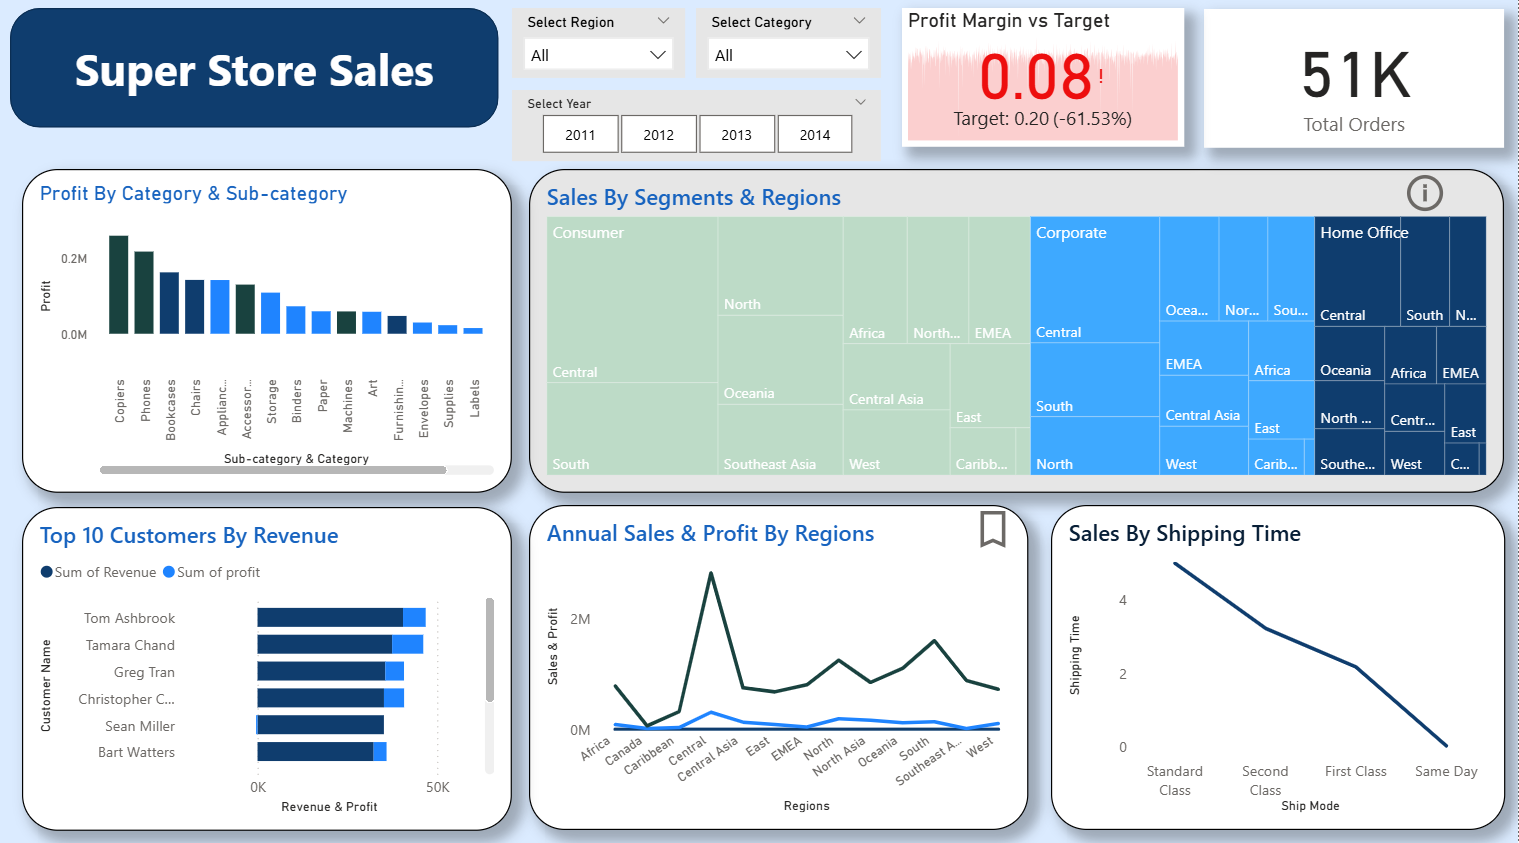

Layout of this report page (visuals, bound fields, positions):
{"tool":"powerbi","page":{"name":"Dashboard","canvas":[1280,720],"ordinal":0},"visuals":[{"type":"treemap","title":"Sales By Segments & Regions","fields":{"Group":["super store dataset.segment"],"Values":["Sum(super store dataset.Revenue)"],"Details":["super store dataset.region"]},"box":[446,148.7,822.1,273.1],"z":0},{"type":"lineChart","title":"Annual Sales & Profit By Regions","fields":{"Y":["Max(super store dataset.year)","Sum(super store dataset.profit)","Sum(super store dataset.Revenue)"],"Category":["super store dataset.region"]},"box":[445.7,431.4,421.4,274.3],"z":1000},{"type":"actionButton","box":[1180.8,148.4,99.2,40.5],"z":2000},{"type":"columnChart","title":"Profit By Category & Sub-category","fields":{"Category":["super store dataset.sub_category"],"Series":["super store dataset.category"],"Y":["Sum(super store dataset.profit)"]},"box":[18.6,148.6,412.9,272.9],"z":3000},{"type":"barChart","title":"Top 10 Customers By Revenue","fields":{"Category":["super store dataset.customer_name"],"Y":["Sum(super store dataset.Revenue)","Sum(super store dataset.profit)"]},"box":[18.3,433.3,413.3,273.3],"z":4000},{"type":"lineChart","title":"Sales By Shipping Time","fields":{"Y":["Avg(super store dataset.Shipping Time)"],"Category":["super store dataset.ship_mode"]},"box":[885.7,431.4,382.9,274.3],"z":6000},{"type":"card","fields":{"Values":["super store dataset.Measure"]},"box":[1015,13.3,253.3,116.7],"z":7000},{"type":"shape","box":[8.6,13,411.8,100.8],"z":8000},{"type":"kpi","title":"Profit Margin vs Target","fields":{"Indicator":["super store dataset.Profit Margin"],"TrendLine":["super store dataset.order_date"],"Goal":["super store dataset.Target Profit Margin"]},"box":[760.3,13,237.6,116.6],"z":9000},{"type":"actionButton","box":[816.9,432,99.5,40.6],"z":10000},{"type":"slicer","fields":{"Values":["super store dataset.category"]},"box":[587.1,12.9,155.7,58.6],"z":11000},{"type":"slicer","fields":{"Values":["super store dataset.region"]},"box":[431.4,12.9,145.7,58.6],"z":12000},{"type":"slicer","fields":{"Values":["super store dataset.year"]},"box":[431.4,81.4,311.4,60],"z":13000}]}

Visuals, with their boxes in screenshot pixels (x1, y1, x2, y2), scaled from the page's 1280x720 canvas onto the 1519x843 screenshot:
"Sales By Segments & Regions" treemap: locate(529, 174, 1505, 494)
"Annual Sales & Profit By Regions" lineChart: locate(529, 505, 1029, 826)
actionButton: locate(1401, 174, 1518, 221)
"Profit By Category & Sub-category" columnChart: locate(22, 174, 512, 494)
"Top 10 Customers By Revenue" barChart: locate(22, 507, 512, 827)
"Sales By Shipping Time" lineChart: locate(1051, 505, 1505, 826)
card - super store dataset.Measure: locate(1205, 16, 1505, 152)
shape: locate(10, 15, 499, 133)
"Profit Margin vs Target" kpi: locate(902, 15, 1184, 152)
actionButton: locate(969, 506, 1088, 553)
slicer - super store dataset.category: locate(697, 15, 881, 84)
slicer - super store dataset.region: locate(512, 15, 685, 84)
slicer - super store dataset.year: locate(512, 95, 881, 166)
